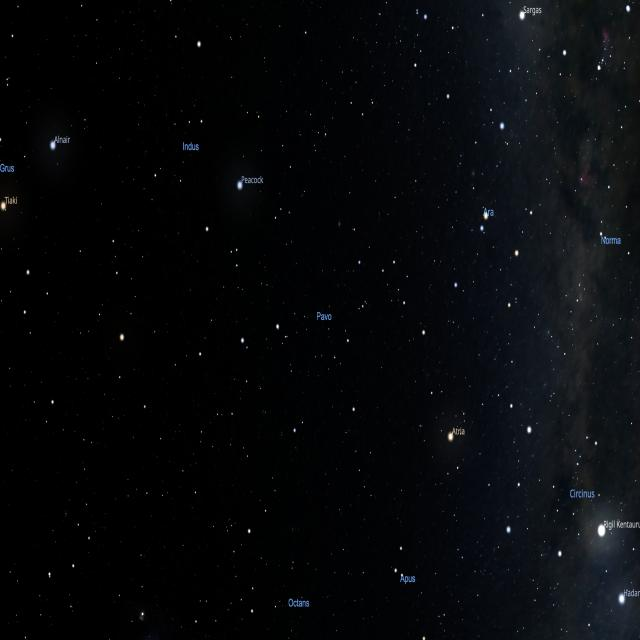Pavo: (197, 175, 427, 438)
